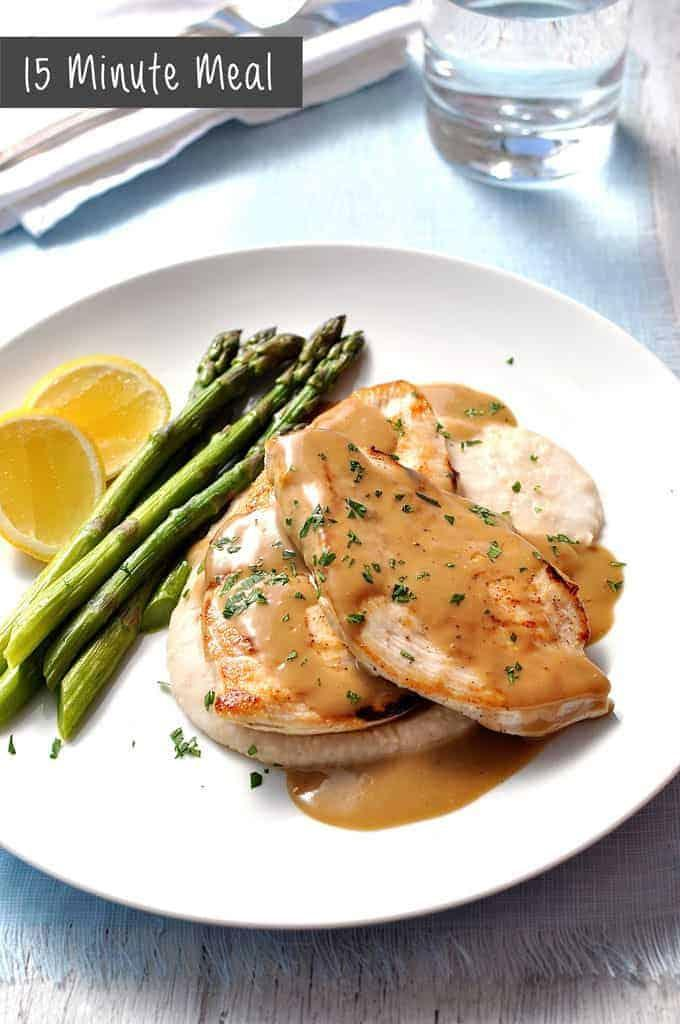chicken: (242, 416, 615, 757)
